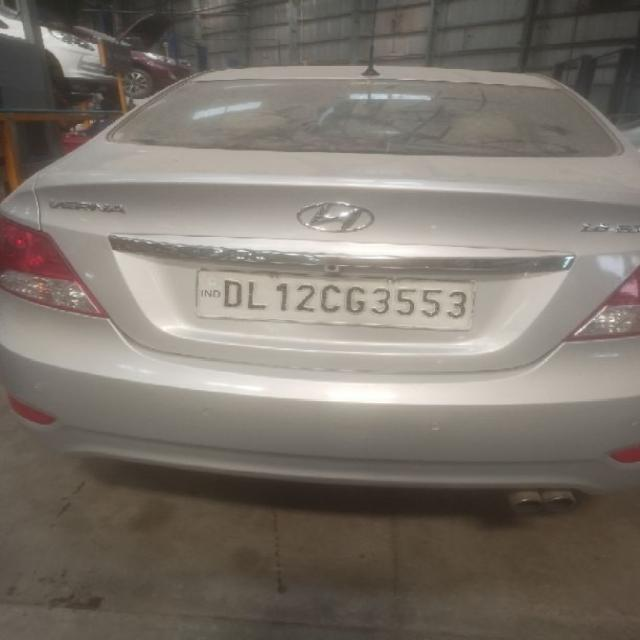license_plate: (193, 267, 476, 331)
